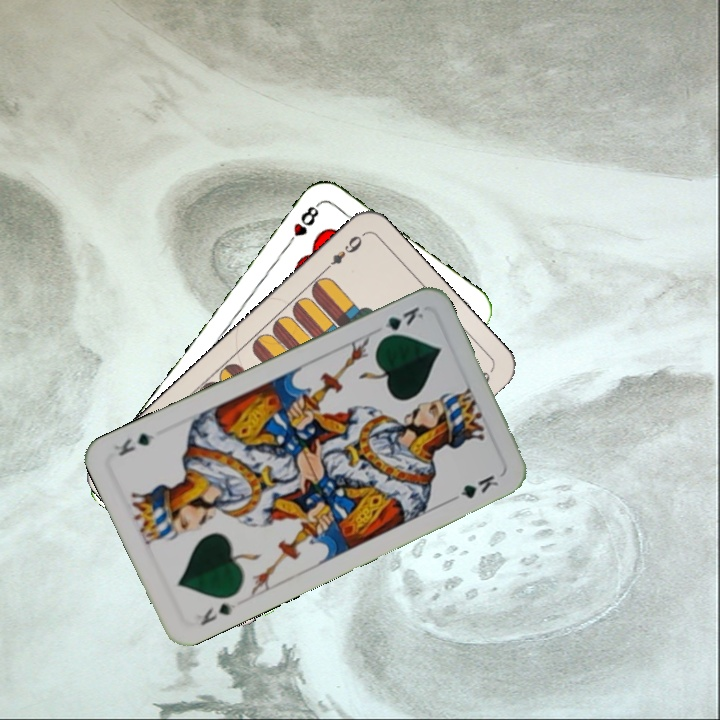E9: (319, 230, 366, 275)
GK: (375, 302, 426, 343), (196, 598, 239, 629)
H8: (282, 199, 323, 250)
